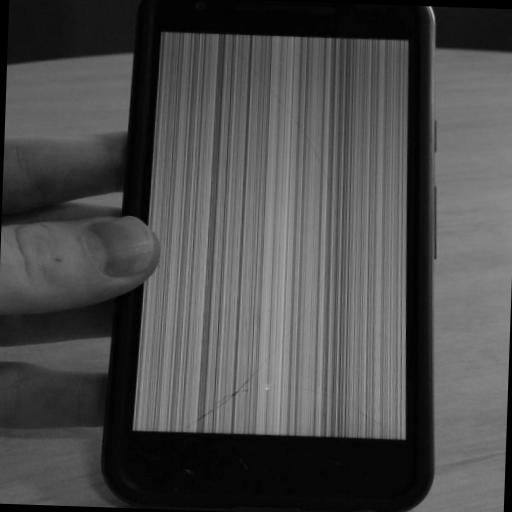phone: (99, 6, 444, 512)
